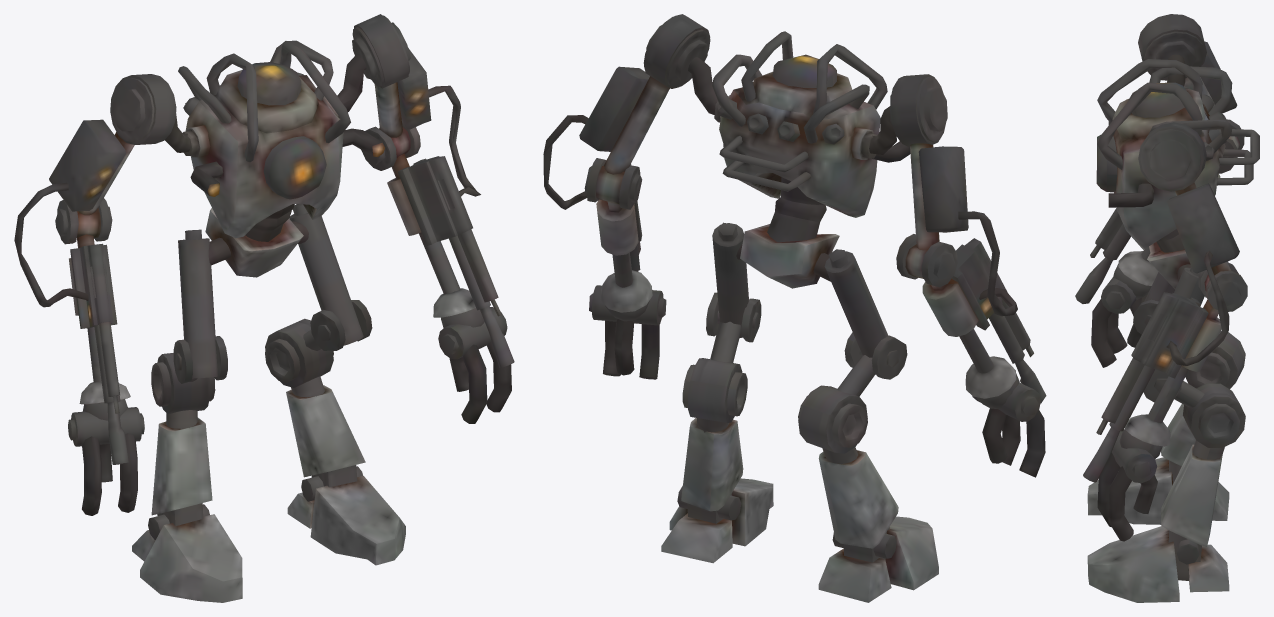
File: npc-bumstrum.glb
The picture shows the model from 3 angles, left to right: view 1: azimuth 30°, elevation 25°; view 2: azimuth 150°, elevation 25°; view 3: azimuth 270°, elevation 25°; orthographic projection. The views are drawn at different scales.
Parts seen in each view (by area): view 1: Object_7_baked; view 2: Object_7_baked; view 3: Object_7_baked.
Part boxes in pixels (box(x1,y1,x2,y2)): Object_7_baked: box(14, 14, 514, 602); Object_7_baked: box(543, 14, 1046, 602); Object_7_baked: box(1075, 14, 1259, 602).
Size of the model in its own units: 432 by 469 by 165.
Materials: 1 (1 with a texture image).
